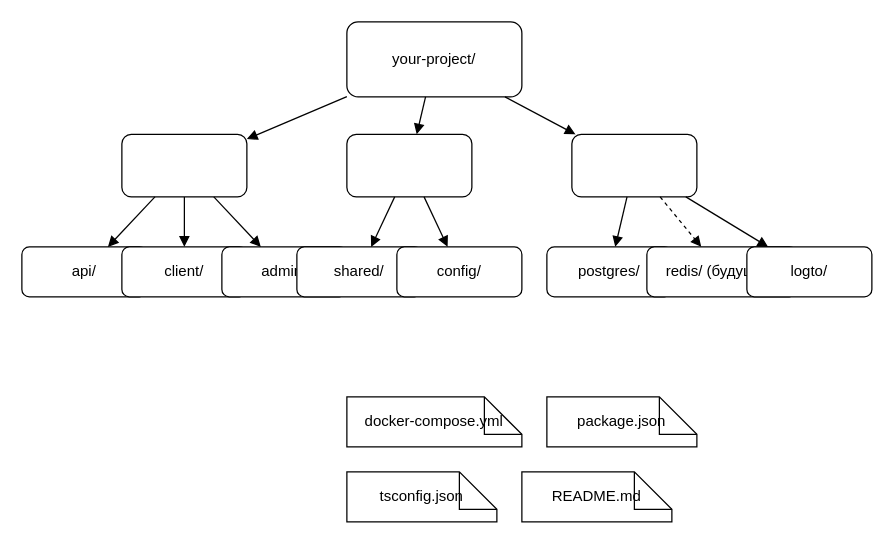
This 894x544 diagram has some shape labels left out. Each missing label, with the box of its shape:
apps/: (121, 133, 247, 197)
docker/: (571, 133, 697, 197)
packages/: (346, 133, 472, 197)
